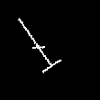double_crochet: (19, 19, 60, 72)
